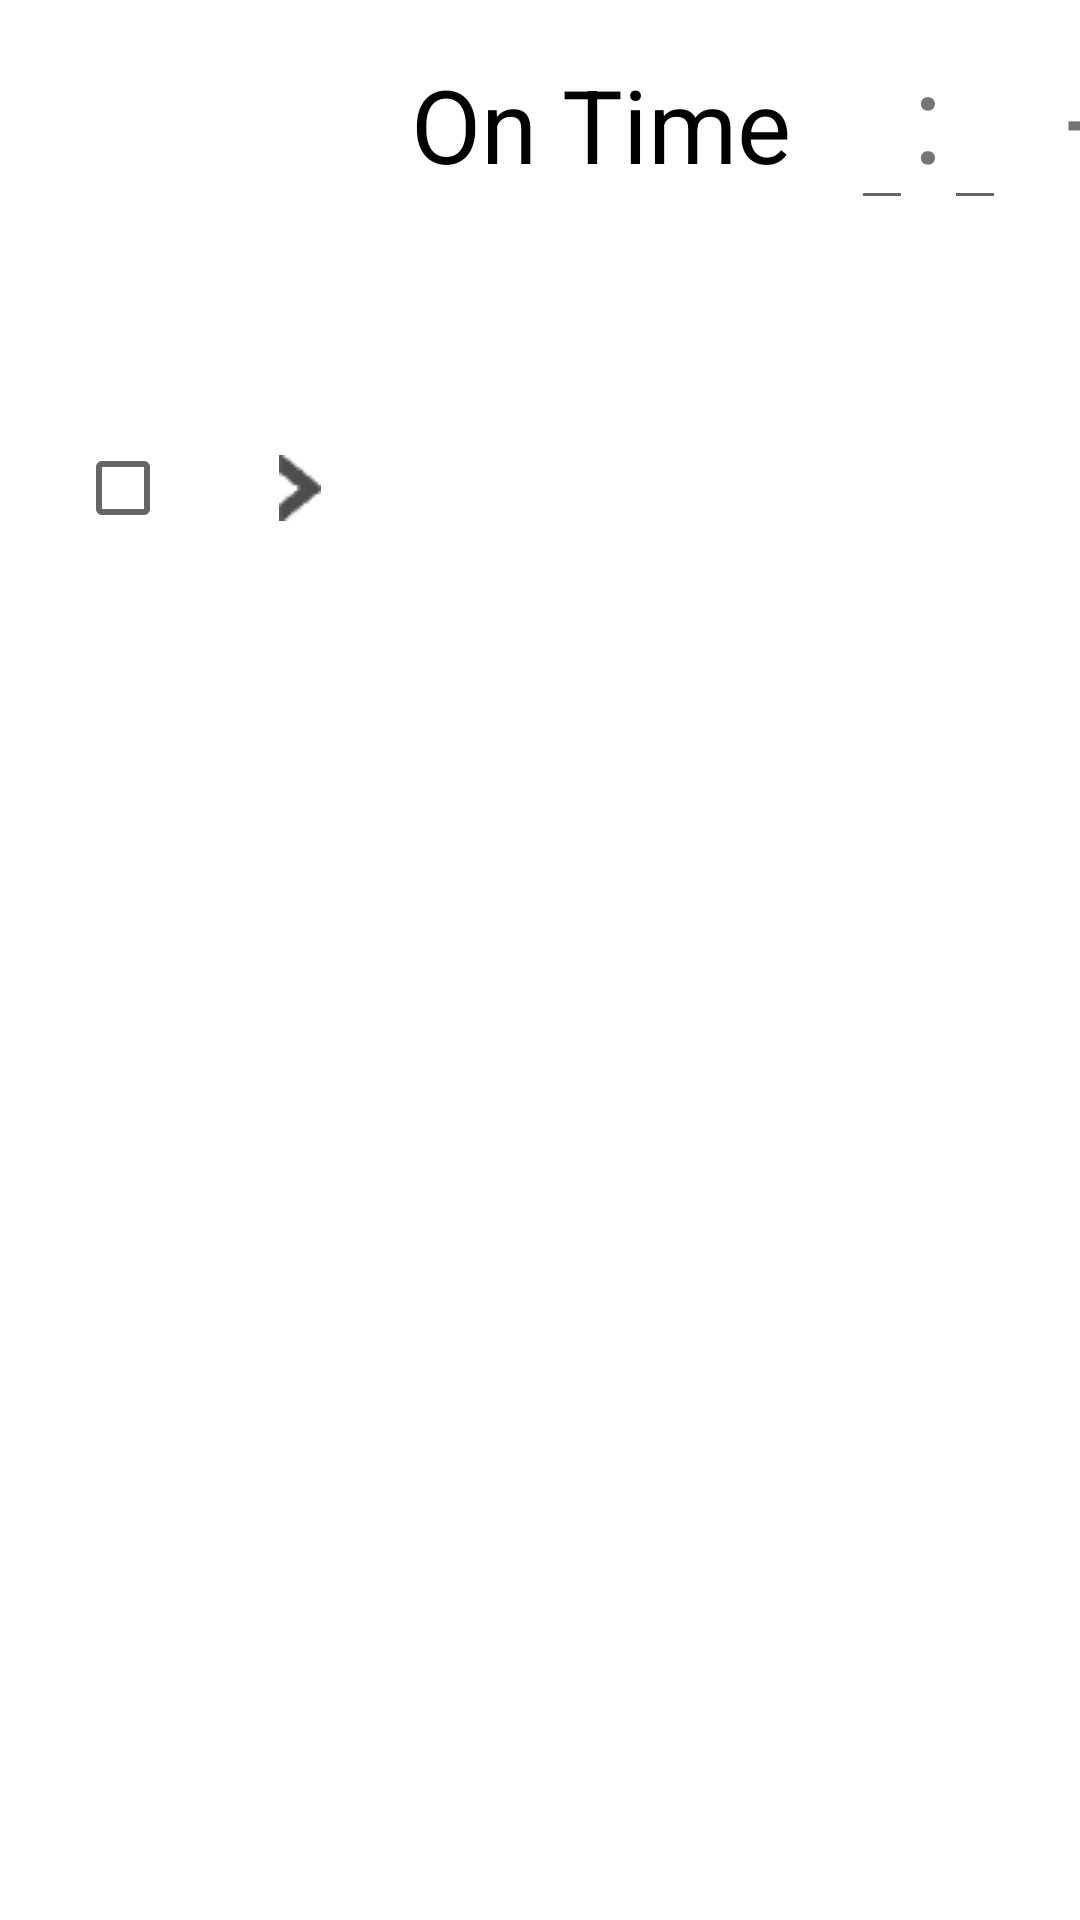

Where icons sit on this 1080x1920 app screen, as (x1, y1, x2, y2):
right enter: (279, 455, 321, 521)
